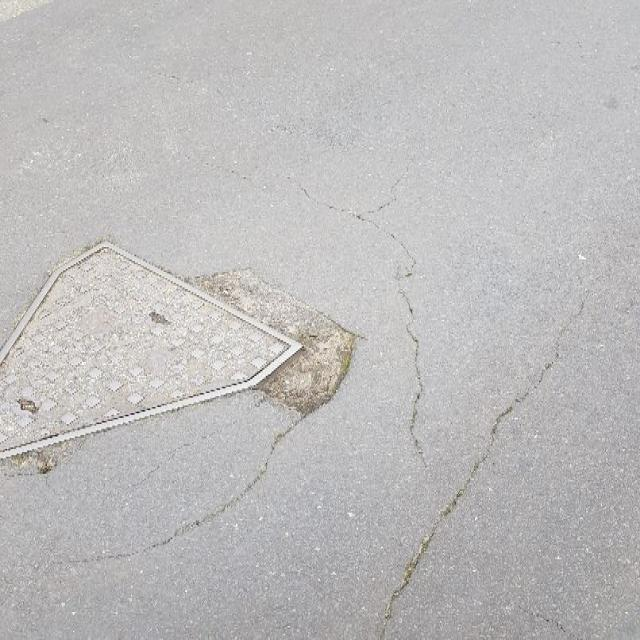Pothole: (185, 258, 363, 424)
